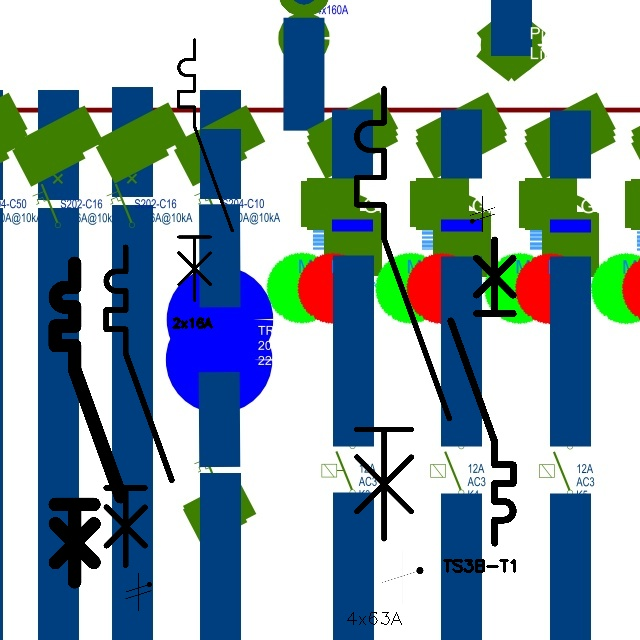interruptor_termomagnetico: (345, 77, 461, 550), (47, 255, 129, 590), (98, 239, 179, 573), (443, 232, 521, 551), (172, 33, 239, 307)
